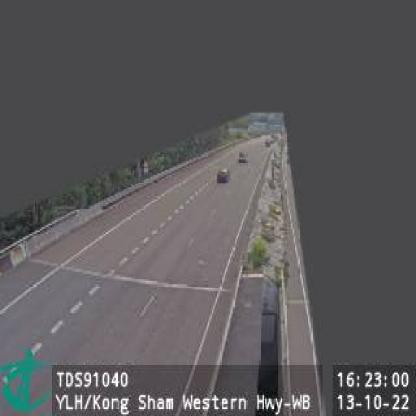Car: (215, 166, 230, 182), (239, 149, 249, 162)
